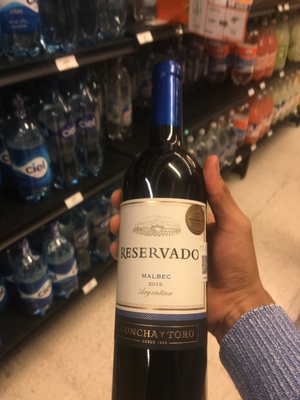reservado malbec: (112, 57, 217, 400)
